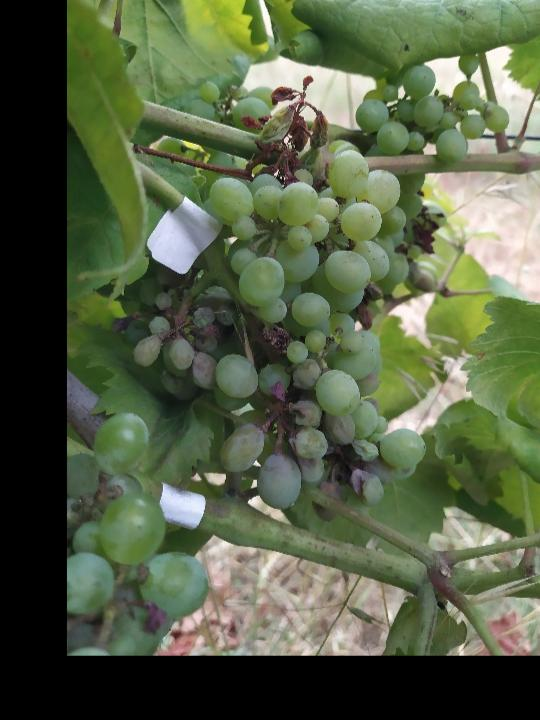grape: (131, 101, 433, 514)
